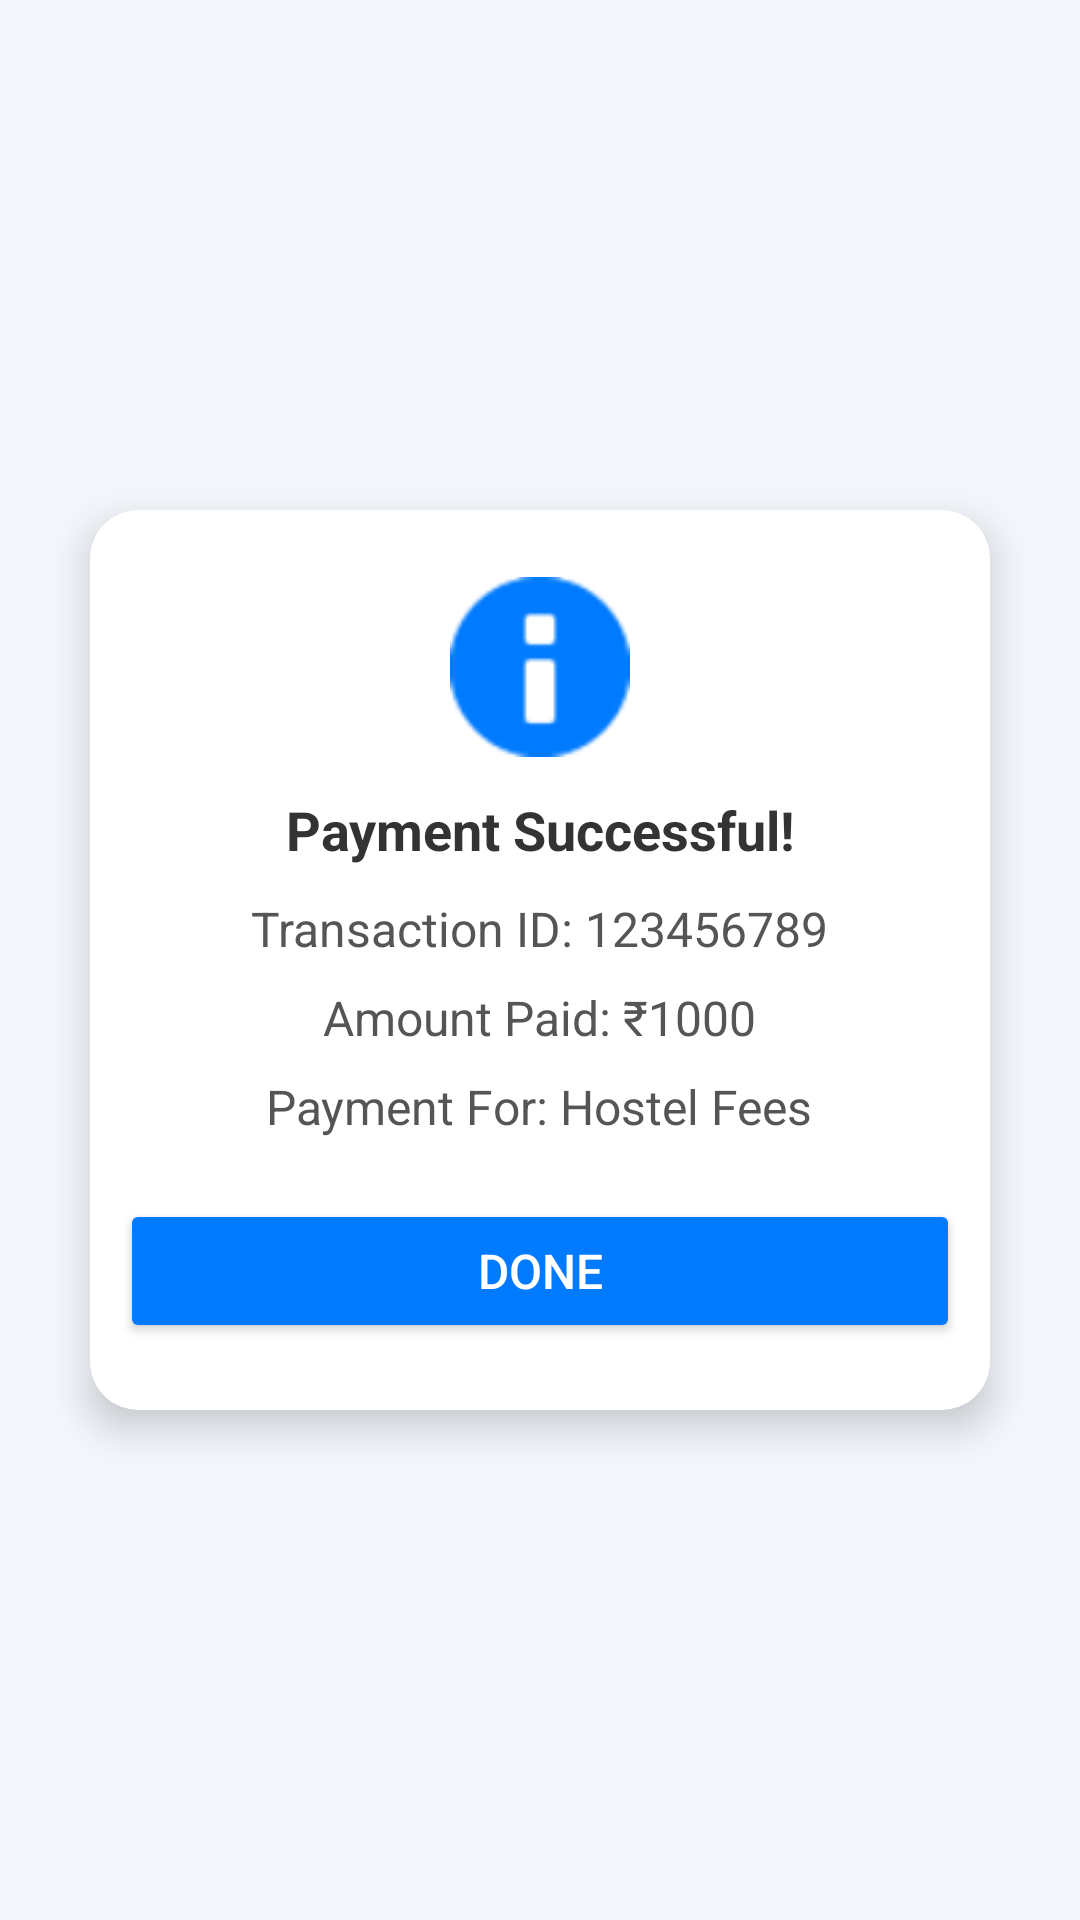

Where icons sit on this 1080x1920 app screen, as [left=x1, top=y1, right=x2, bottom=y2]:
info: [left=450, top=577, right=630, bottom=757]
